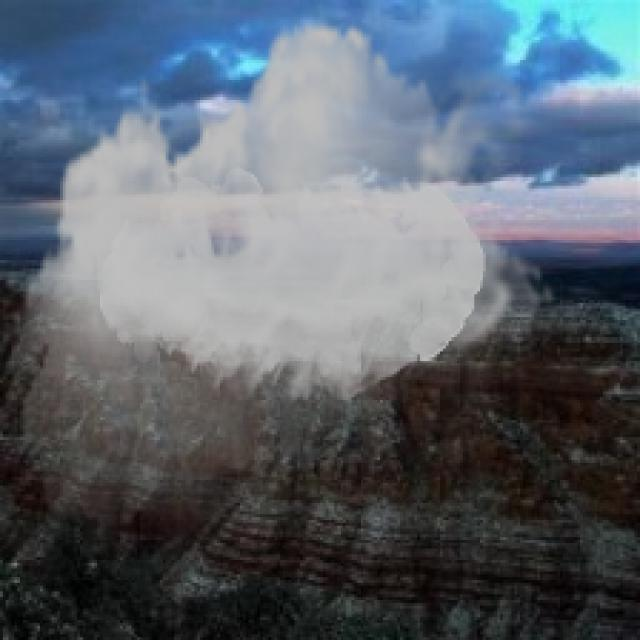Smoke: (11, 0, 558, 560)
